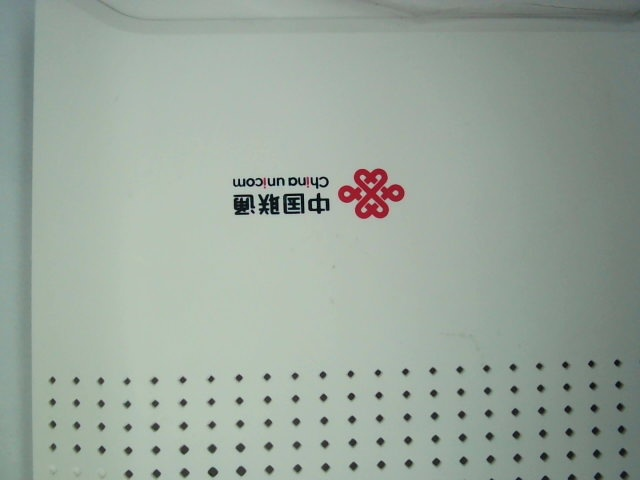AD_ChinaUnicom: (223, 155, 417, 239)
